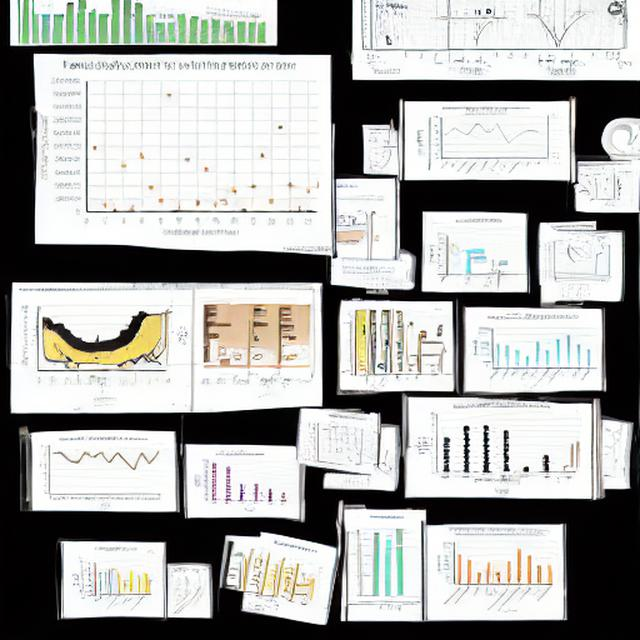Graph: (40, 56, 328, 243), (414, 404, 558, 485), (434, 527, 559, 614), (34, 433, 166, 509), (470, 314, 596, 389), (425, 104, 547, 177), (191, 451, 293, 511)
